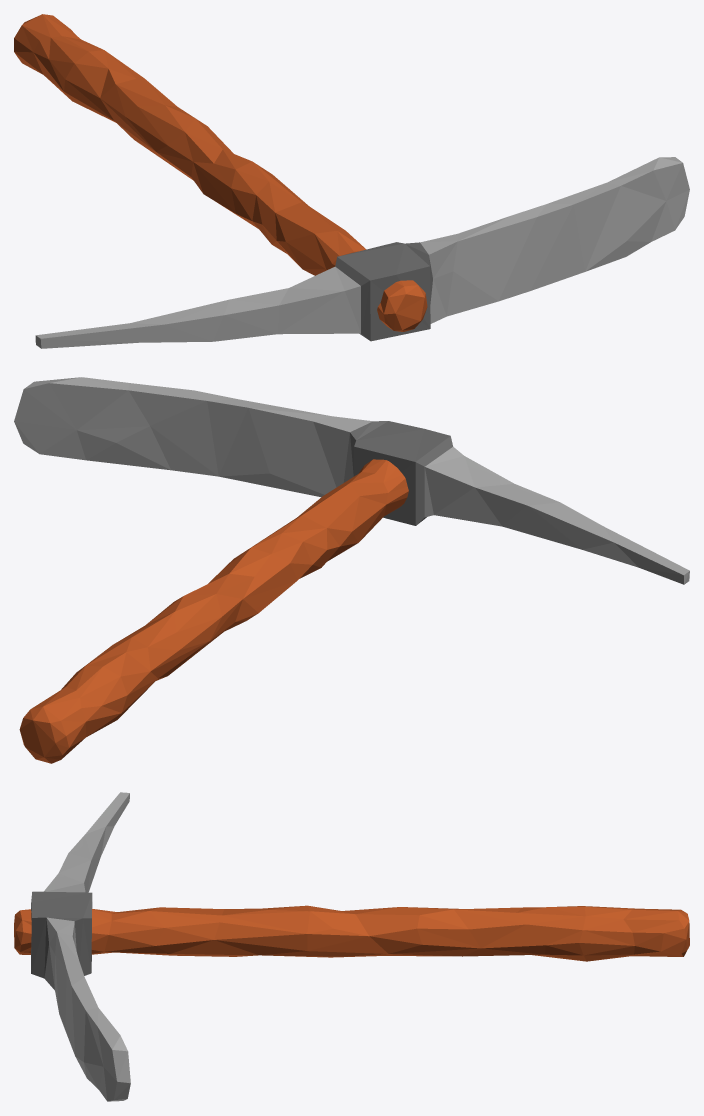
File: Pick.fbx
The picture shows the model from 3 angles, top to bottom: view 1: azimuth 30°, elevation 25°; view 2: azimuth 150°, elevation 25°; view 3: azimuth 270°, elevation 25°; orthographic projection. The views are drawn at different scales.
Visible parts, largest first — view 1: Pick; view 2: Pick; view 3: Pick.
Part boxes in pixels (x1,y1,x2,y2): Pick: (14,14,689,348); Pick: (14,377,689,763); Pick: (14,792,689,1101).
Size of the model in its own units: 0.6066 by 0.0662 by 0.6127.
